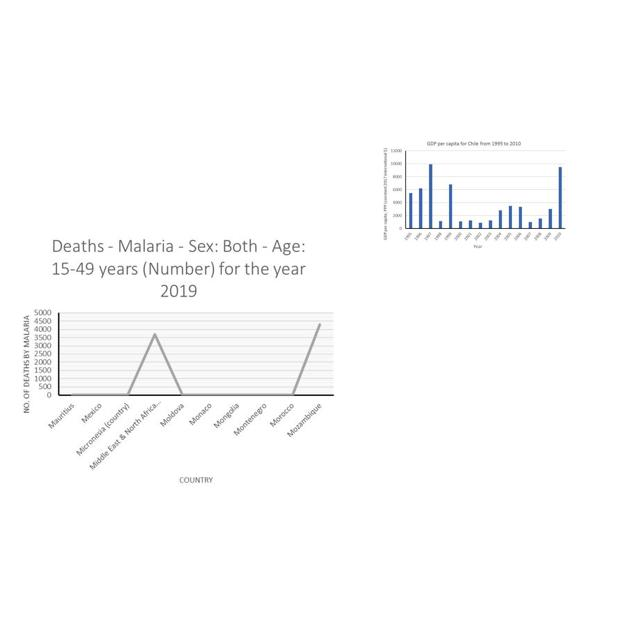Graph: (16, 231, 338, 490), (380, 138, 568, 250)
